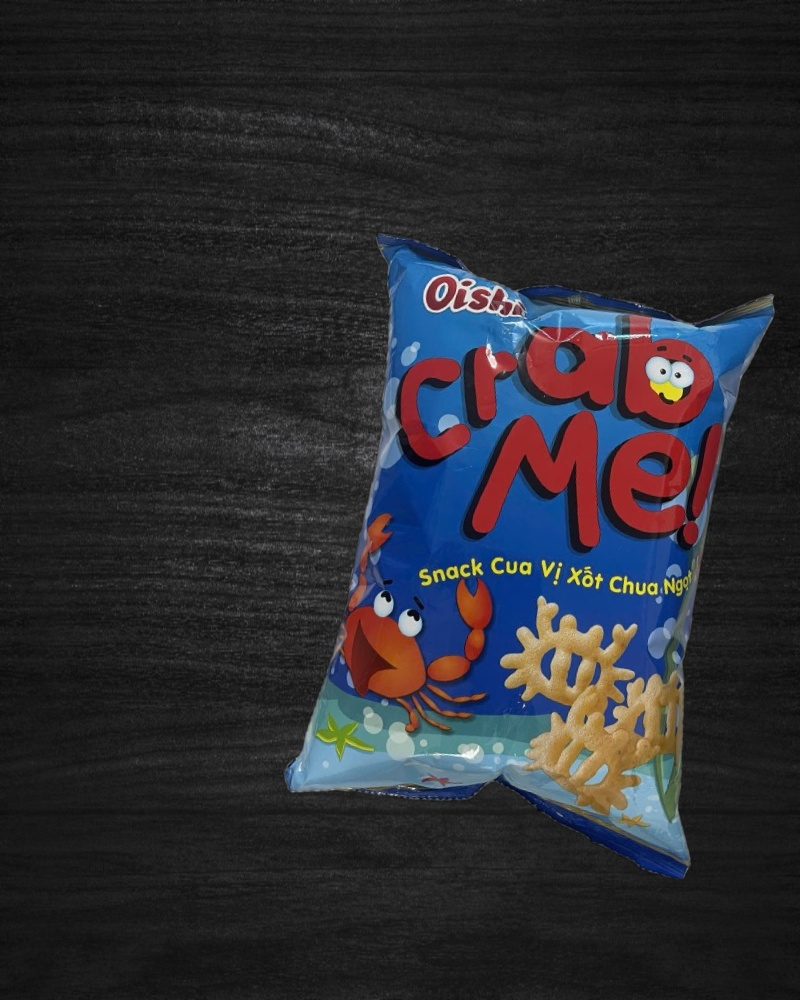Snack chay: (276, 225, 791, 883)
